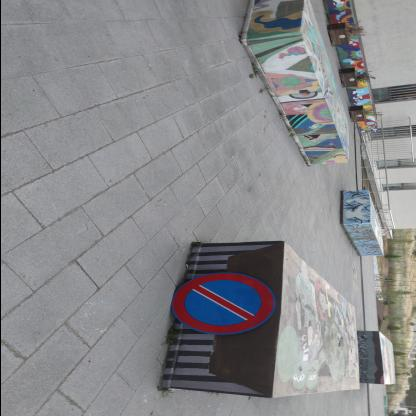No Waiting: (171, 274, 277, 336)
